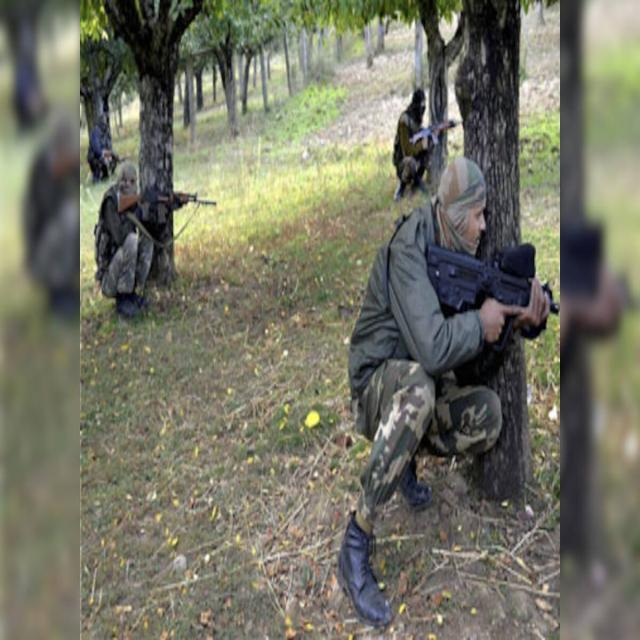Forest: (80, 0, 562, 640)
Militant: (324, 156, 523, 640), (85, 148, 189, 328), (369, 64, 446, 215)
